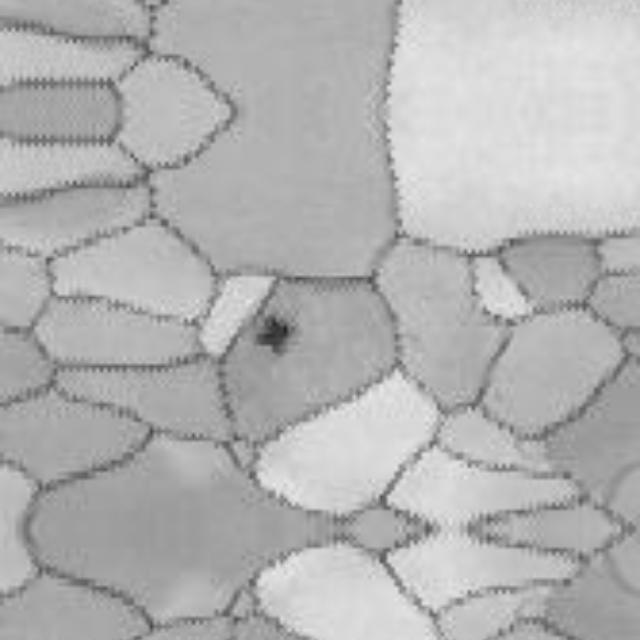good_void: (256, 312, 296, 355)
